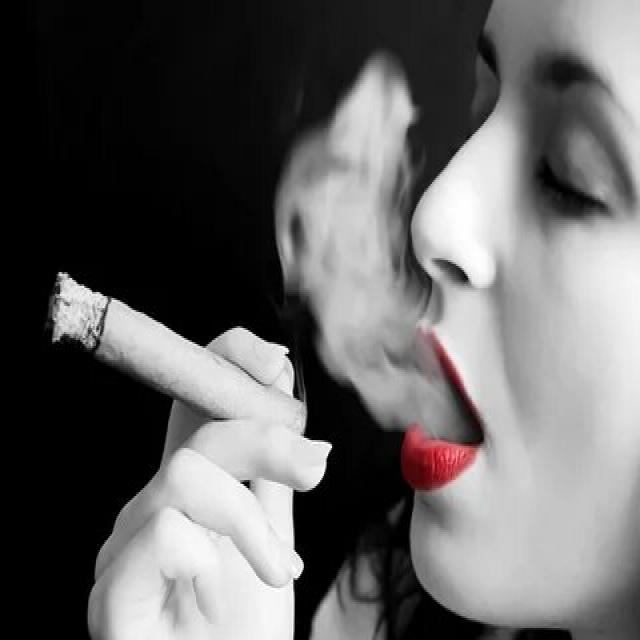cigarette: (43, 260, 313, 454)
